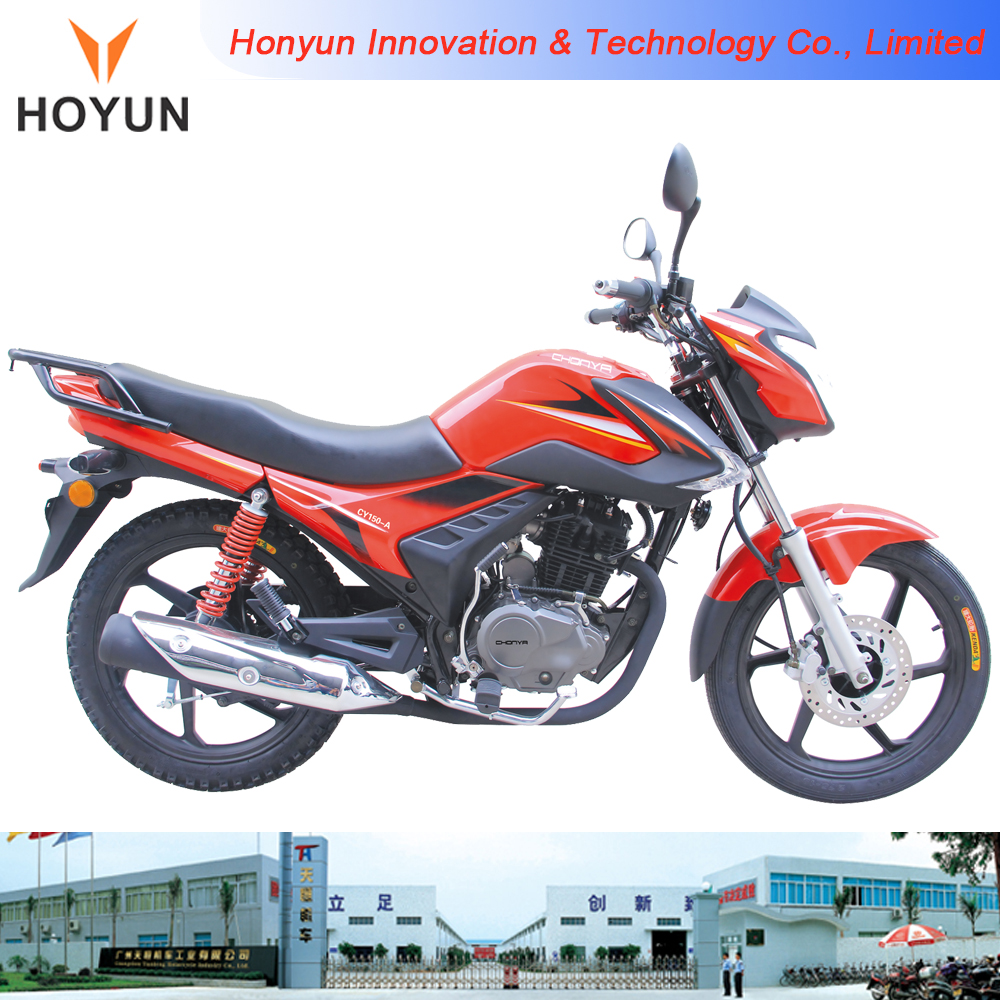motorbike: (17, 210, 1000, 823)
